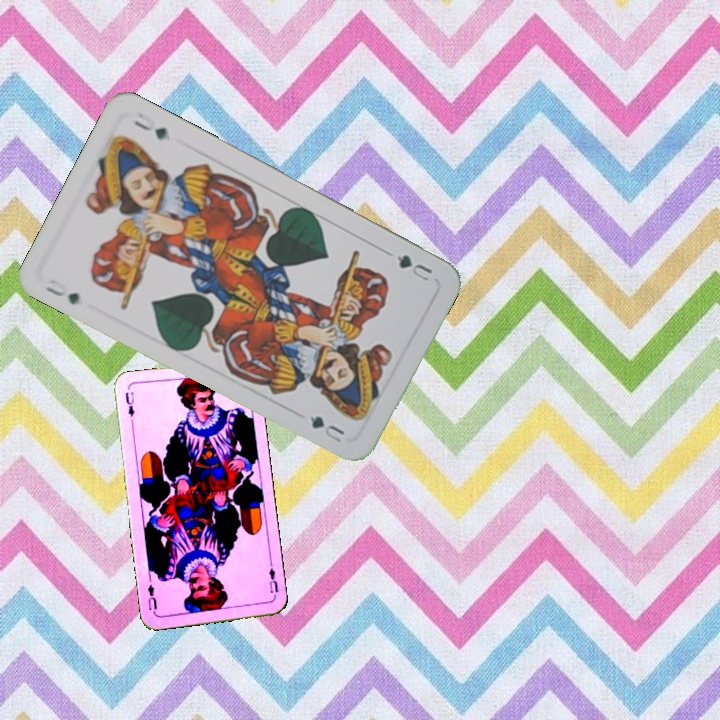EU: (265, 559, 281, 599), (121, 388, 137, 419)
GU: (392, 250, 435, 284), (41, 275, 82, 307)
